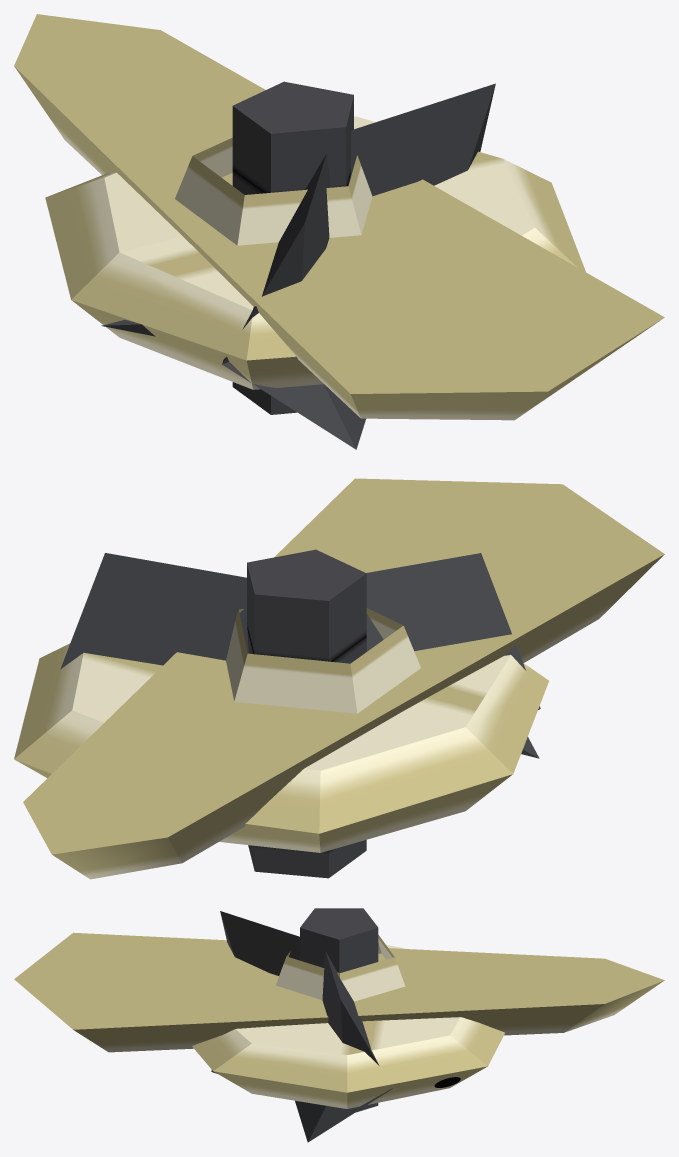
Rendered from BitsOfBots.fbx.
3 views of the same model, one above another, from view 1: azimuth 30°, elevation 25°; view 2: azimuth 150°, elevation 25°; view 3: azimuth 270°, elevation 25° (orthographic). The views are drawn at different scales.
Visible parts, largest first — view 1: pCube1, polySurface6, Shield_Shoulder, Tube, Discharger; view 2: pCube1, polySurface6, Shield_Shoulder, Tube, Discharger; view 3: pCube1, polySurface6, Shield_Shoulder, Tube, Discharger.
Part boxes in pixels (bbox=[...]): pCube1: bbox=[14, 14, 664, 420]; polySurface6: bbox=[45, 116, 585, 389]; Shield_Shoulder: bbox=[101, 83, 495, 449]; Tube: bbox=[232, 81, 353, 414]; Discharger: bbox=[175, 137, 372, 245]; pCube1: bbox=[23, 478, 664, 879]; polySurface6: bbox=[14, 643, 548, 852]; Shield_Shoulder: bbox=[60, 553, 540, 758]; Tube: bbox=[247, 549, 366, 878]; Discharger: bbox=[226, 608, 420, 713]; pCube1: bbox=[14, 932, 664, 1052]; polySurface6: bbox=[192, 944, 504, 1108]; Shield_Shoulder: bbox=[211, 911, 392, 1142]; Tube: bbox=[300, 908, 378, 1112]; Discharger: bbox=[276, 935, 405, 1001].
Bounding box in the file's own units: 7.26 × 4.06 × 13.46.
